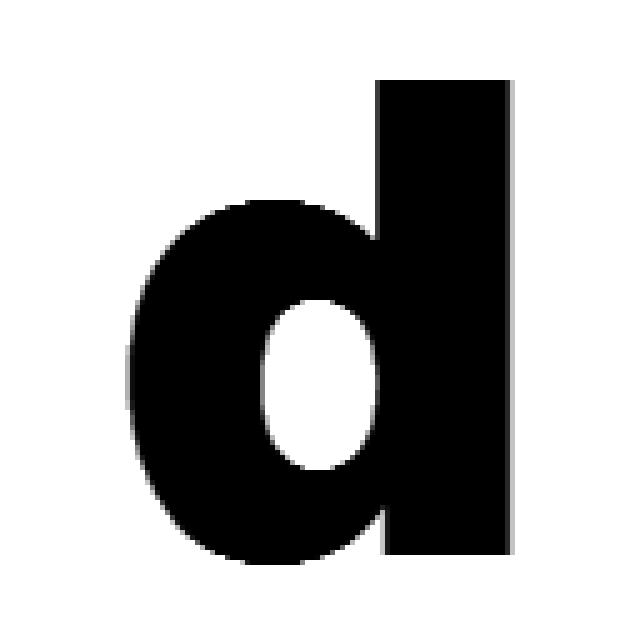D: (120, 75, 515, 565)
